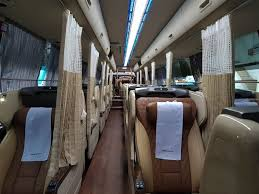seat: (137, 96, 204, 185)
